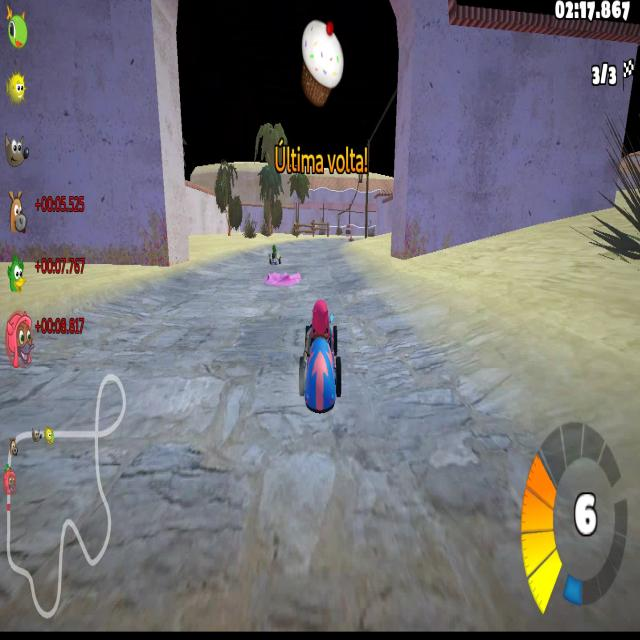enemy_kart: (267, 244, 284, 266)
obstacle: (265, 266, 306, 288)
player_kart: (295, 295, 344, 414)
track: (0, 429, 599, 640), (0, 330, 293, 423), (89, 287, 291, 332), (342, 284, 403, 428), (405, 332, 492, 429), (165, 256, 264, 284), (287, 241, 349, 276)
